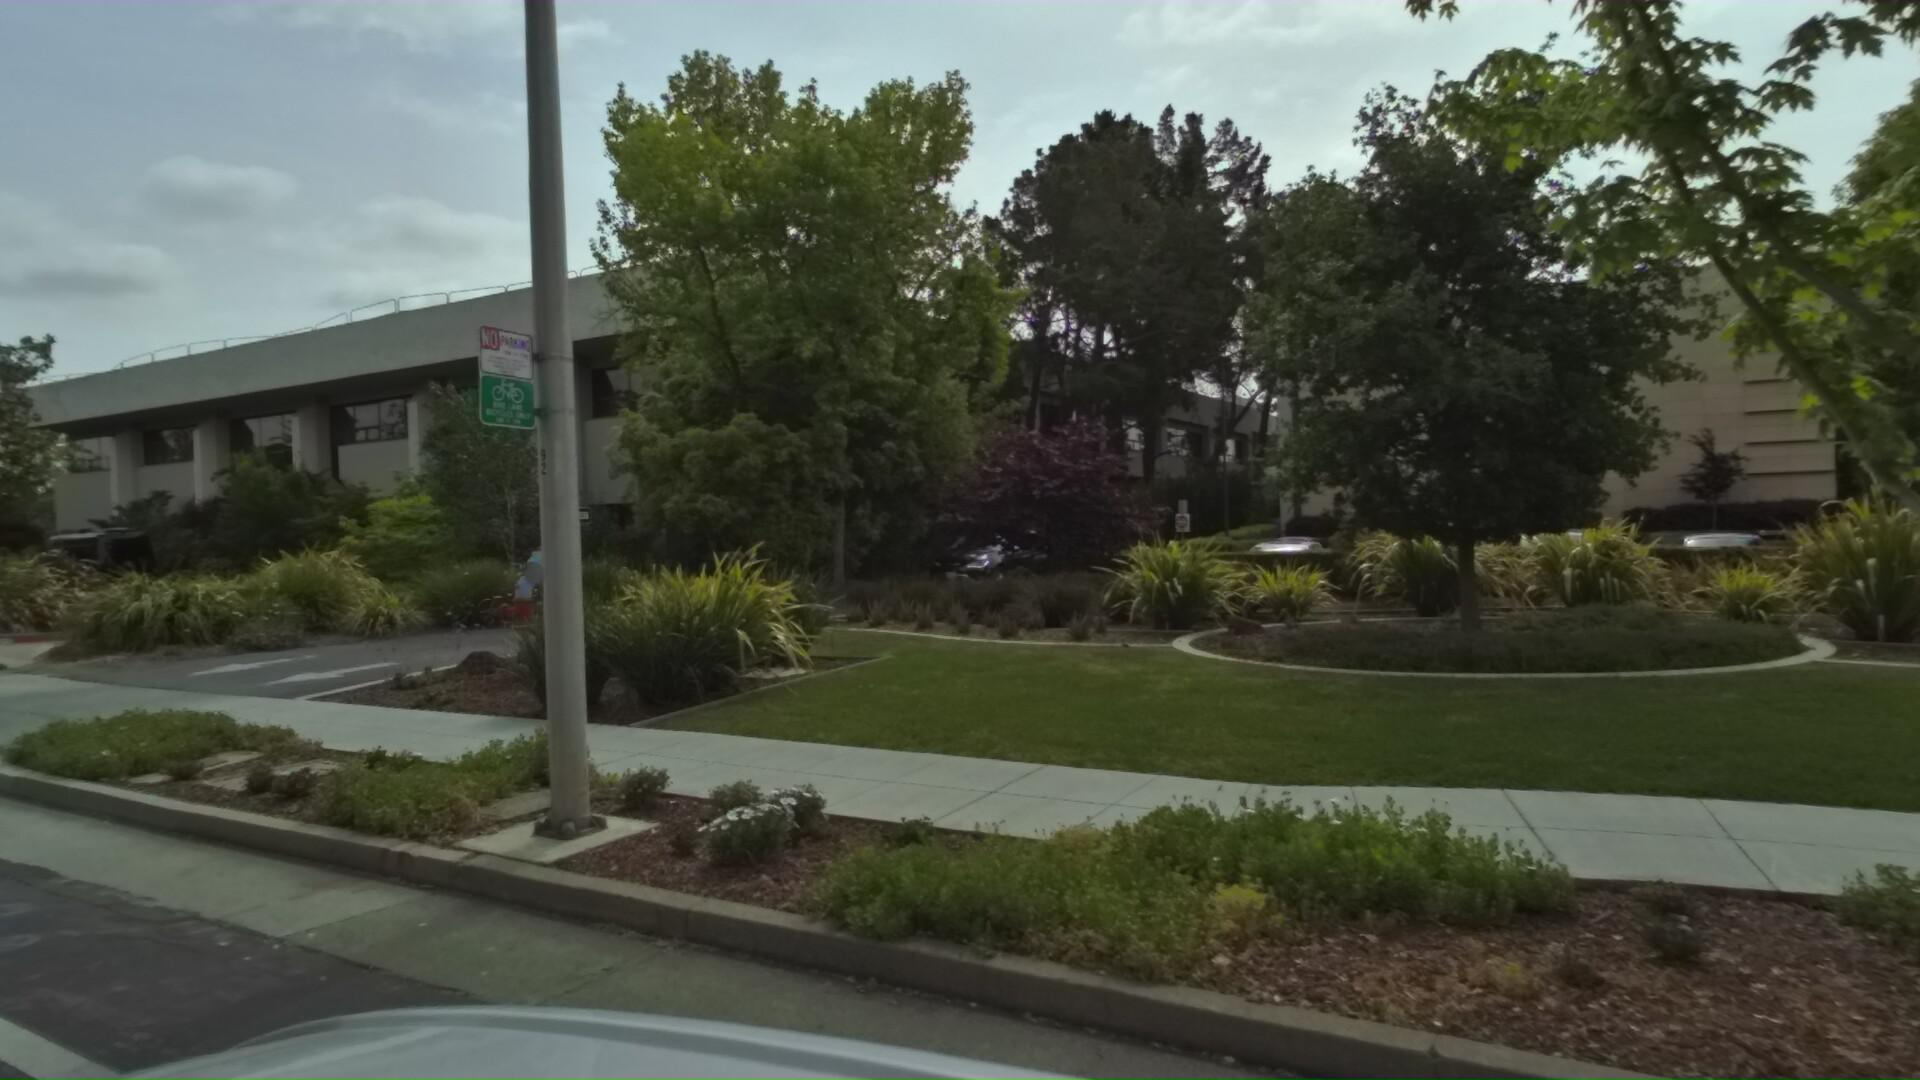car: (18, 520, 170, 603), (926, 520, 1068, 588)
